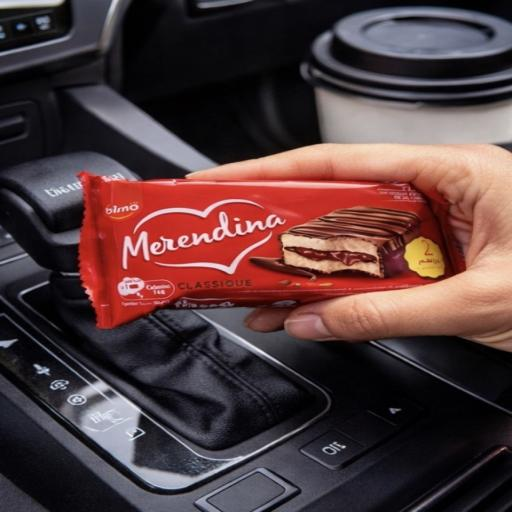merendina: (47, 130, 508, 366)
